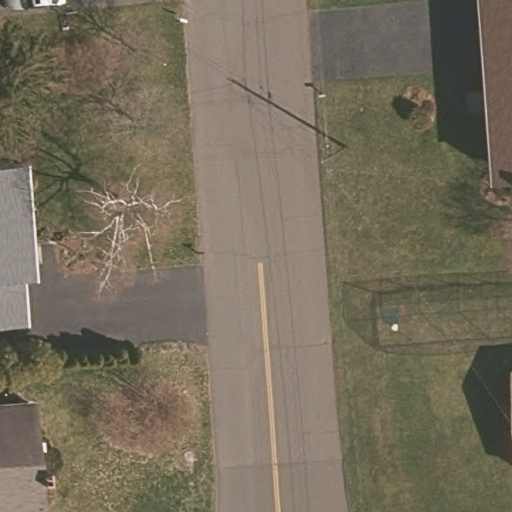DT: (319, 133, 353, 174)
